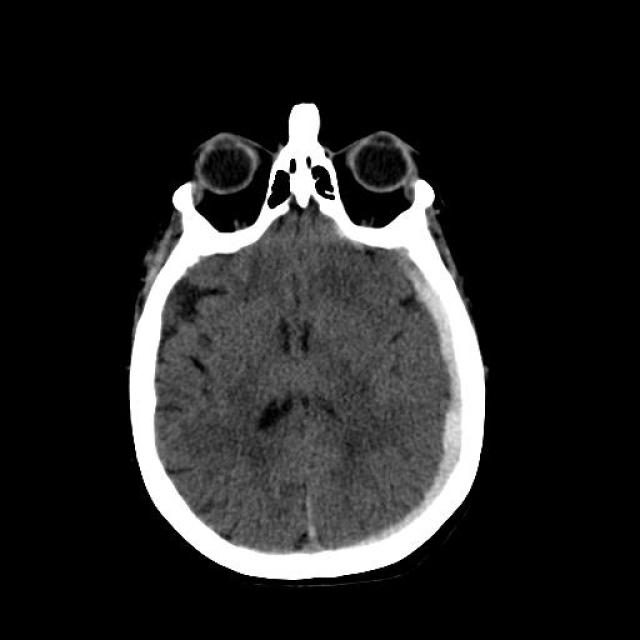Subdural: (397, 260, 492, 512)
